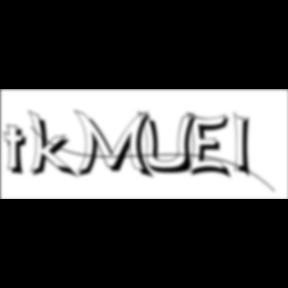E: (186, 110, 235, 182)
I: (234, 110, 258, 182)
M: (73, 108, 157, 181)
U: (138, 110, 202, 176)
k: (28, 108, 80, 181)
t: (3, 124, 34, 179)
